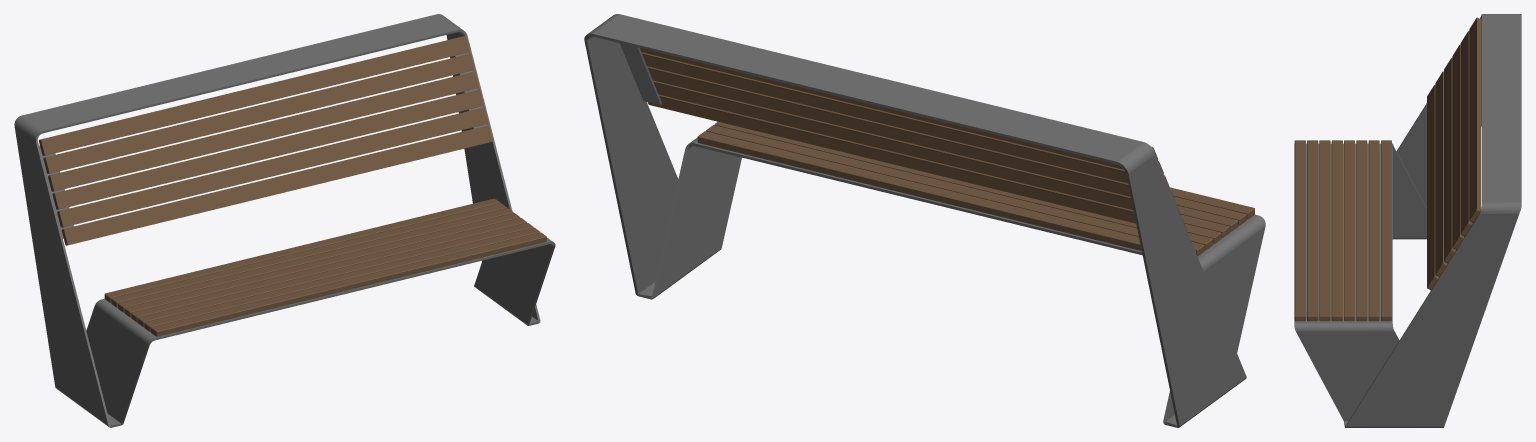
File: bench1 1.fbx
3 views of the same model, side by side, from view 1: azimuth 30°, elevation 25°; view 2: azimuth 150°, elevation 25°; view 3: azimuth 270°, elevation 25° (orthographic). The views are drawn at different scales.
Parts seen in each view (by area): view 1: Bench1; view 2: Bench1; view 3: Bench1.
Boxes of the visible parts, <box> form: Bench1: <box>14,14,555,427</box>; Bench1: <box>584,14,1265,427</box>; Bench1: <box>1294,14,1521,427</box>.
Bounding box in the file's own units: 214 × 114 × 106.
